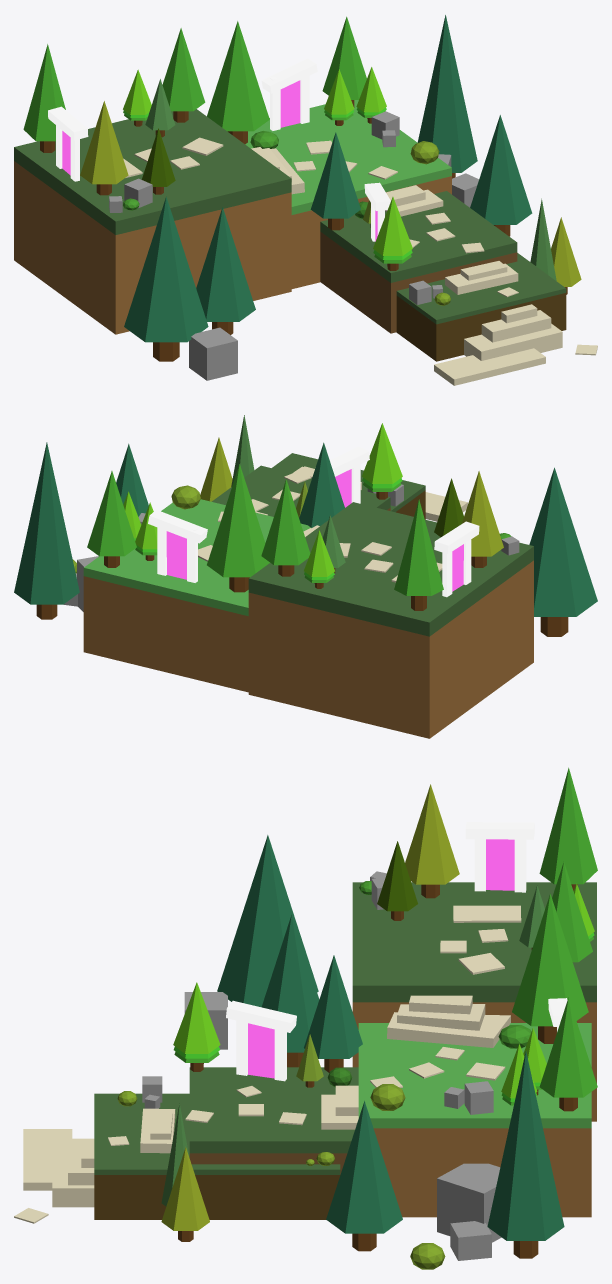
Rendered from environment10.glb.
3 renders of one model, top to bottom at view 1: azimuth 30°, elevation 25°; view 2: azimuth 150°, elevation 25°; view 3: azimuth 270°, elevation 25°, orthographic. The views are drawn at different scales.
Parts seen in each view (by area): view 1: terrains.001, terrains.002, terrains, terrains.003, trees.008, trees.014, trees.009, trees.004, trees.005, trees.010, trees.006, trees.012 (+26 smaller); view 2: terrains.001, terrains, trees.008, trees.014, trees.004, trees.012, trees.001, trees, terrains.002, trees.010, trees.006, trees.016 (+19 smaller); view 3: terrains, terrains.001, terrains.003, terrains.002, trees.014, trees.008, trees.005, trees.004, trees.009, trees.012, rocks.004, trees.010 (+33 smaller).
Boxes of the visible parts, <box> form: terrains.001: <box>14,109,291,334</box>; terrains.002: <box>320,191,517,333</box>; terrains: <box>245,100,451,288</box>; terrains.003: <box>396,253,566,361</box>; trees.008: <box>124,197,208,361</box>; trees.014: <box>417,15,477,178</box>; trees.009: <box>196,207,255,334</box>; trees.004: <box>207,21,269,144</box>; trees.005: <box>470,115,532,236</box>; trees.010: <box>310,132,360,230</box>; trees.006: <box>80,101,128,195</box>; trees.012: <box>23,44,65,152</box>; terrains.001: <box>248,502,533,738</box>; terrains: <box>83,499,311,692</box>; trees.008: <box>529,467,597,636</box>; trees.014: <box>14,442,79,619</box>; trees.004: <box>207,464,269,592</box>; trees.012: <box>394,499,443,610</box>; trees.001: <box>261,479,310,576</box>; trees: <box>87,471,136,567</box>; terrains.002: <box>212,465,390,516</box>; trees.010: <box>299,442,344,527</box>; trees.006: <box>462,471,503,567</box>; trees.016: <box>362,423,402,499</box>; terrains: <box>358,1023,591,1217</box>; terrains.001: <box>352,882,596,1121</box>; terrains.003: <box>94,1093,340,1219</box>; terrains.002: <box>189,1067,358,1174</box>; trees.014: <box>487,1051,564,1258</box>; trees.008: <box>217,835,318,1007</box>; trees.005: <box>326,1101,402,1251</box>; trees.004: <box>512,893,588,1043</box>; trees.009: <box>261,914,319,1067</box>; trees.012: <box>539,767,597,890</box>; rocks.004: <box>437,1163,501,1242</box>; trees.010: <box>304,955,362,1072</box>.
Size of what is drawn, in the model's own units: 29.18 by 13.5 by 27.01.
